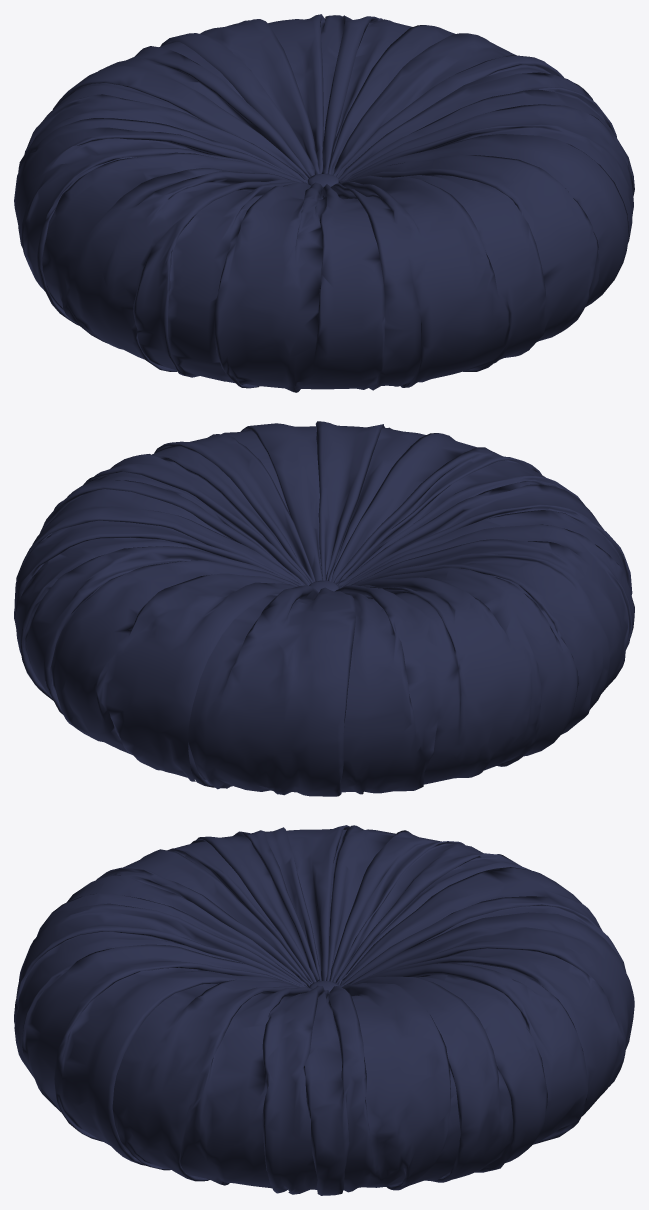
File: pouf.glb
The picture shows the model from 3 angles, top to bottom: view 1: azimuth 30°, elevation 25°; view 2: azimuth 150°, elevation 25°; view 3: azimuth 270°, elevation 25°; orthographic projection.
Visible parts, largest first — view 1: SpecularSilkPouf; view 2: SpecularSilkPouf; view 3: SpecularSilkPouf.
Boxes of the visible parts, x1,y1,x2,y2 form: SpecularSilkPouf: (14, 14, 634, 392); SpecularSilkPouf: (14, 421, 634, 796); SpecularSilkPouf: (14, 825, 634, 1195).
Bounding box in the file's own units: 0.6099 × 0.1978 × 0.61.
